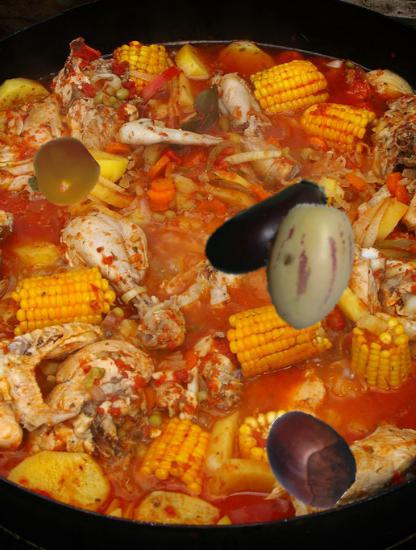Chestnut: (258, 408, 360, 510)
Eggplant: (198, 158, 342, 302)
Pepino: (243, 200, 374, 331)
Physalis: (27, 138, 97, 208)
